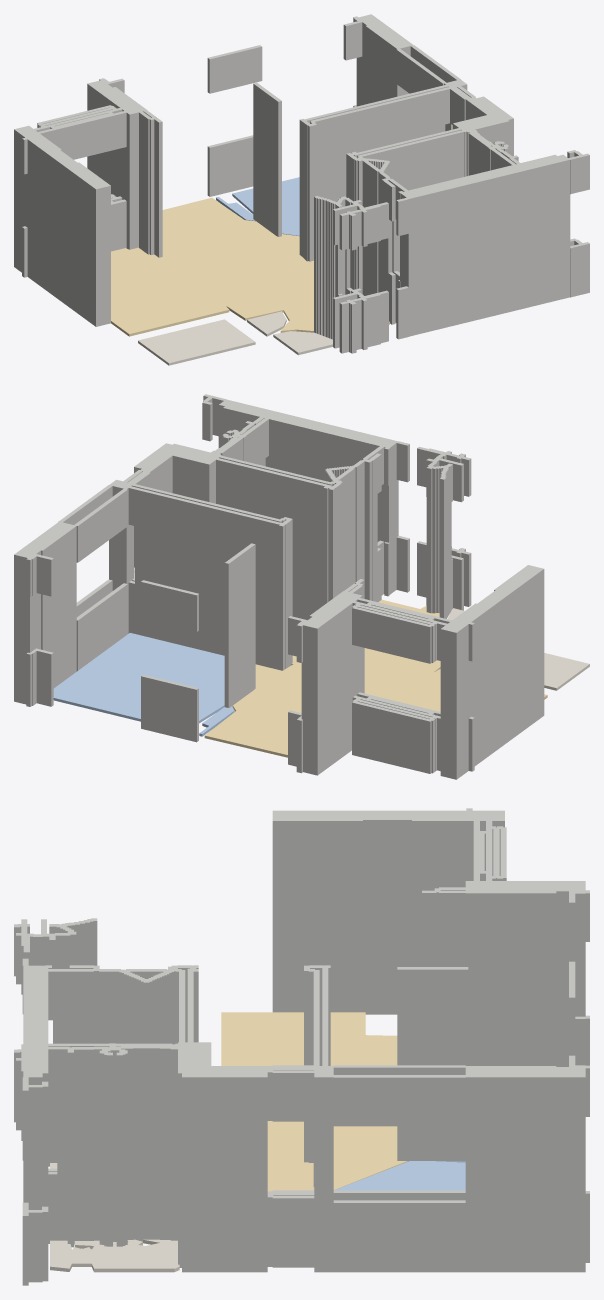
The picture shows the model from 3 angles, top to bottom: view 1: azimuth 30°, elevation 25°; view 2: azimuth 150°, elevation 25°; view 3: azimuth 270°, elevation 25°; orthographic projection. The views are drawn at different scales.
Parts seen in each view (by area): view 1: walls, room:living:1, room:other:2, room:bedroom:0, room:other:6, room:other:3; view 2: walls, room:bedroom:0, room:living:1, room:other:2; view 3: walls, room:living:1, room:other:5, room:bedroom:0.
Boxes of the visible parts, <box> form: walls: <box>14,14,589,353</box>; room:living:1: <box>111,197,389,336</box>; room:other:2: <box>138,319,255,365</box>; room:bedroom:0: <box>216,177,299,236</box>; room:other:6: <box>273,331,332,355</box>; room:other:3: <box>247,311,286,336</box>; walls: <box>14,394,544,779</box>; room:bedroom:0: <box>53,633,234,736</box>; room:living:1: <box>204,599,547,757</box>; room:other:2: <box>544,653,589,690</box>; walls: <box>14,808,589,1285</box>; room:living:1: <box>221,1012,407,1191</box>; room:other:5: <box>50,1239,179,1272</box>; room:bedroom:0: <box>334,1161,465,1190</box>.
Size of the model in its own units: 8.71 by 2.8 by 7.5.
